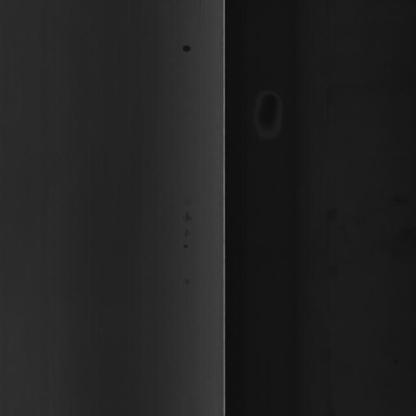oil_spot: (175, 198, 195, 288), (175, 33, 198, 65)
